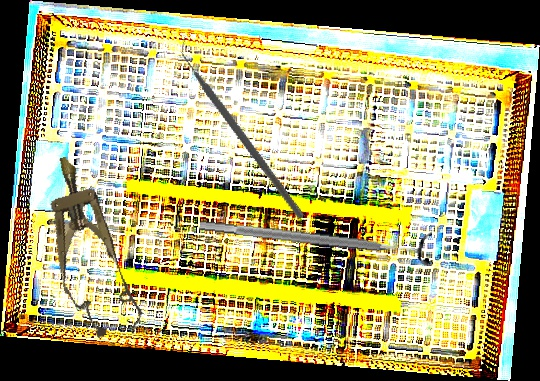Chopper: (137, 35, 350, 219)
Fixation Ring: (197, 206, 433, 269)
Speculum: (29, 147, 148, 344)
